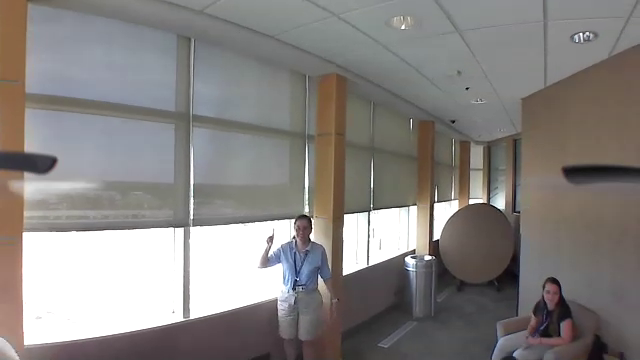up: (263, 226, 278, 248)
